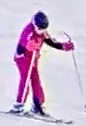skier: (0, 10, 86, 124)
